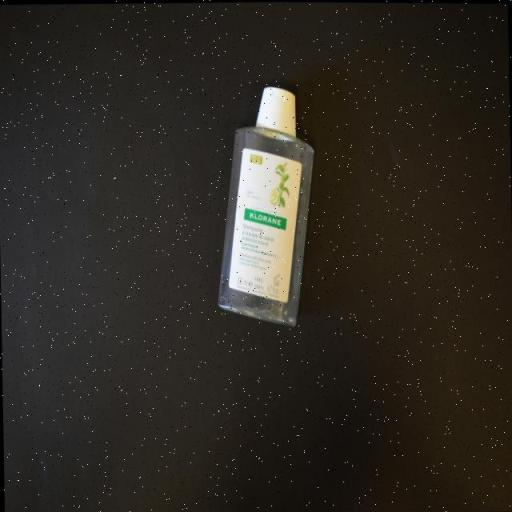plastic: (212, 84, 318, 330)
